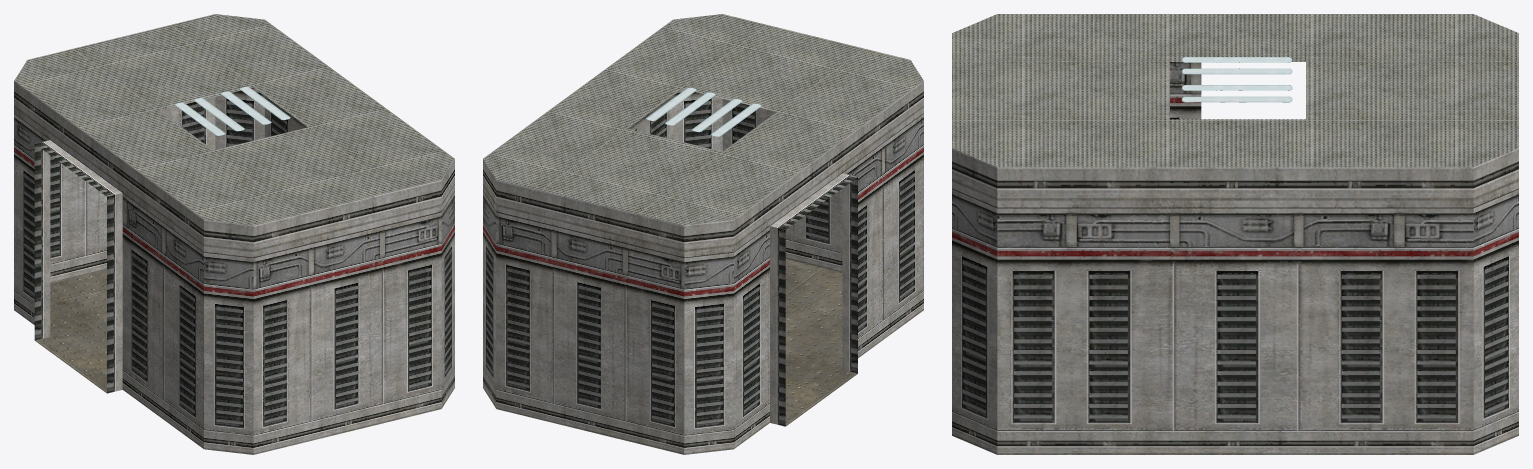
Rendered from mun_all_military_storage_shed_rebl_s01_r4_room1_mesh_room1.fbx.
The picture shows the model from 3 angles, left to right: view 1: azimuth 30°, elevation 25°; view 2: azimuth 150°, elevation 25°; view 3: azimuth 270°, elevation 25°; orthographic projection. The views are drawn at different scales.
Visible parts, largest first — view 1: mesh_node; view 2: mesh_node; view 3: mesh_node.
Boxes of the visible parts, bbox=[...] form: mesh_node: bbox=[14, 14, 454, 454]; mesh_node: bbox=[483, 14, 923, 454]; mesh_node: bbox=[952, 14, 1518, 454].
Bounding box in the file's own units: 4.25 × 3.63 × 6.25.
